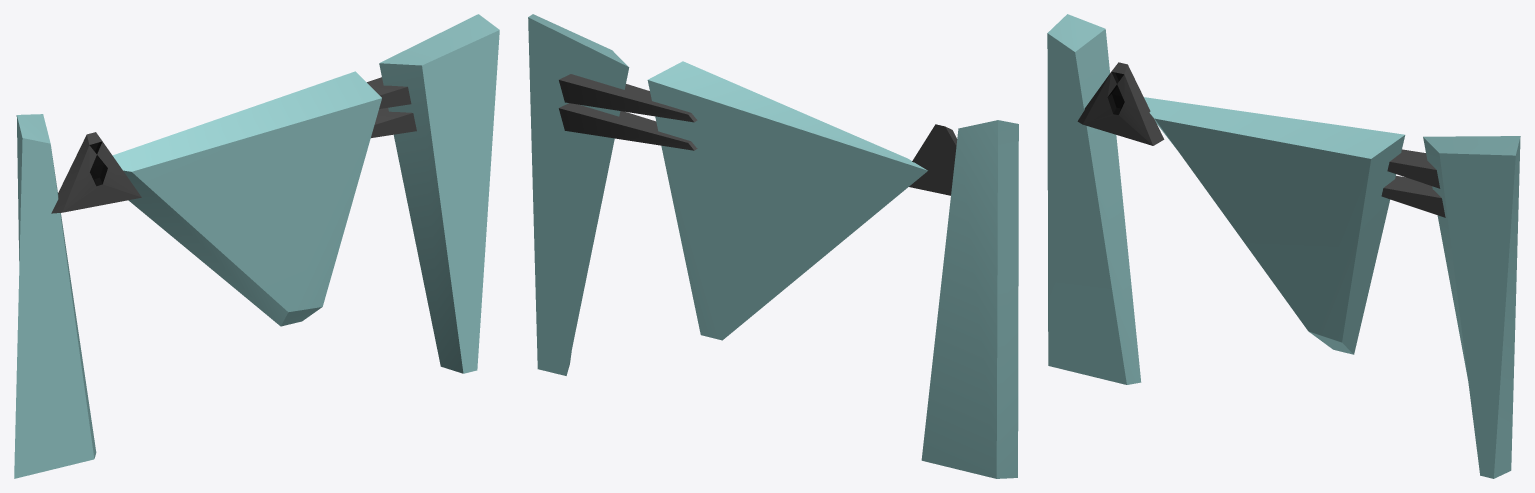
File: c_fence_planks_white_gate_aa.fbx
3 renders of one model, left to right at view 1: azimuth 30°, elevation 25°; view 2: azimuth 150°, elevation 25°; view 3: azimuth 330°, elevation 25°, orthographic. The views are drawn at different scales.
Parts seen in each view (by area): view 1: c_fence_planks_white_gate_aa; view 2: c_fence_planks_white_gate_aa; view 3: c_fence_planks_white_gate_aa.
Boxes of the visible parts, x1,y1,x2,y2 form: c_fence_planks_white_gate_aa: [14, 14, 499, 478]; c_fence_planks_white_gate_aa: [528, 14, 1018, 478]; c_fence_planks_white_gate_aa: [1047, 14, 1520, 478].
Size of the model in its own units: 1.84 by 1.3 by 0.2492.
